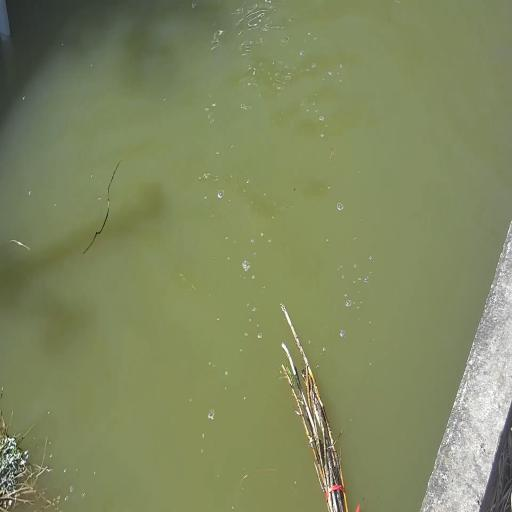twig: (275, 291, 362, 512), (0, 407, 58, 512)
